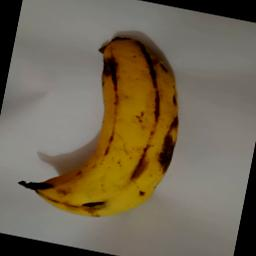Banana Unripe: (6, 20, 196, 238)
